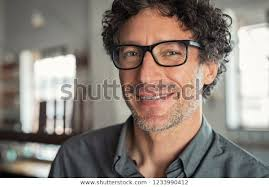Glasses: (109, 34, 203, 70)
